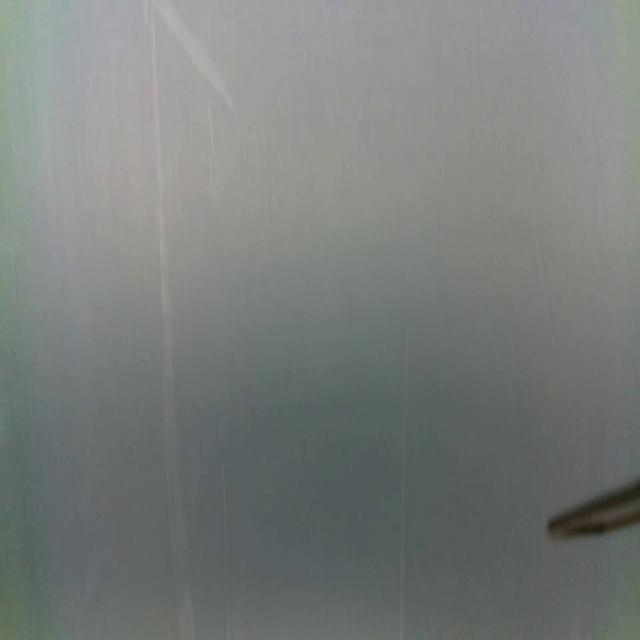crease: (150, 1, 196, 638), (157, 0, 242, 111), (396, 336, 411, 640), (219, 458, 232, 640)
